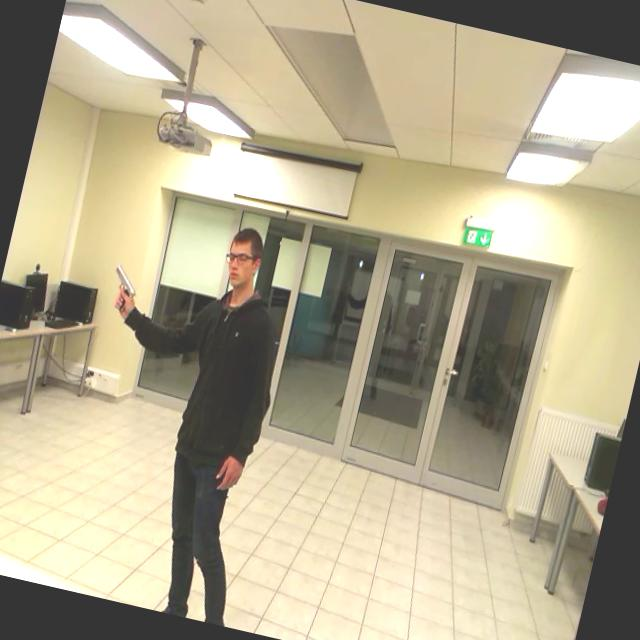handgun: (94, 253, 143, 323)
